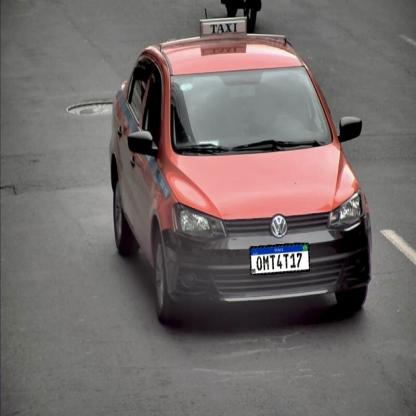PlacaM: (250, 243, 310, 275)
